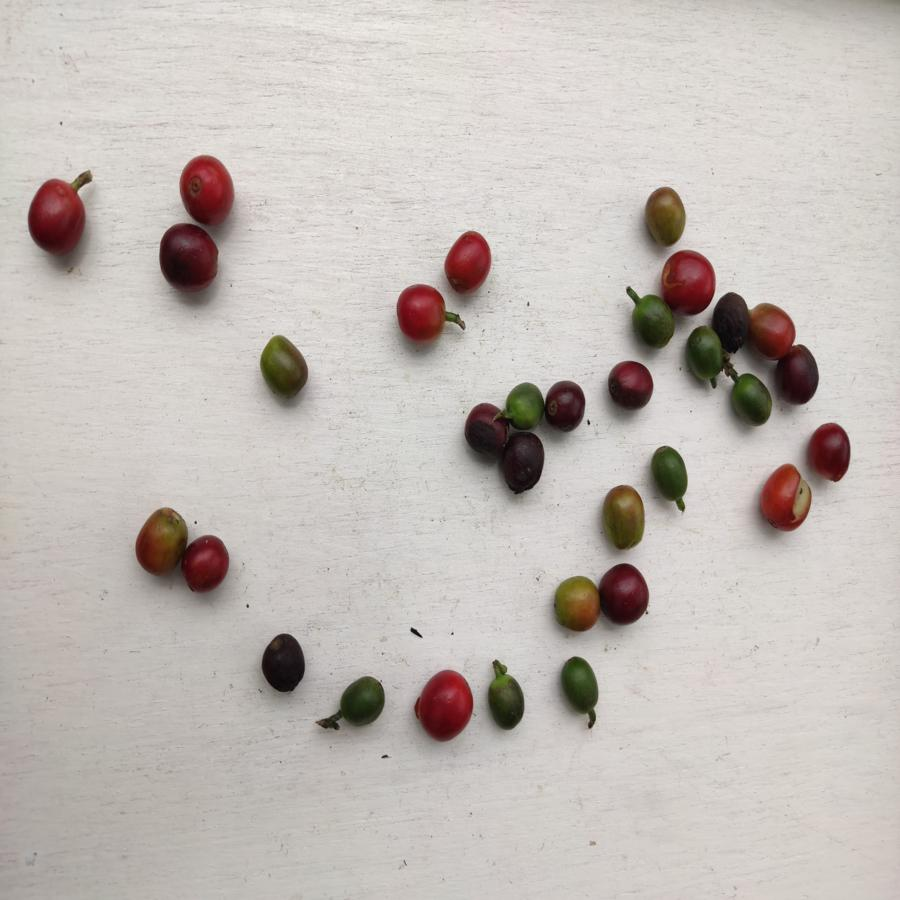Inmaduro: (339, 673, 388, 730), (556, 653, 602, 713), (728, 373, 779, 426), (486, 673, 530, 729), (632, 297, 678, 350), (648, 445, 691, 500), (685, 328, 726, 382), (504, 381, 545, 426)
Maduro: (25, 176, 88, 258), (173, 151, 236, 225), (414, 669, 477, 743), (758, 463, 813, 535), (664, 249, 715, 318), (392, 282, 448, 342), (180, 533, 233, 595), (442, 230, 492, 295)
Pinton: (259, 334, 311, 400), (136, 507, 184, 578), (642, 185, 691, 248), (603, 484, 649, 551), (553, 571, 600, 635), (749, 302, 802, 349)
Sobremaduro: (157, 222, 224, 293), (498, 430, 549, 493), (602, 560, 650, 626), (458, 404, 512, 455), (808, 418, 851, 481), (260, 634, 306, 692), (605, 359, 656, 410), (776, 348, 822, 404), (544, 380, 588, 430), (718, 289, 748, 356)
